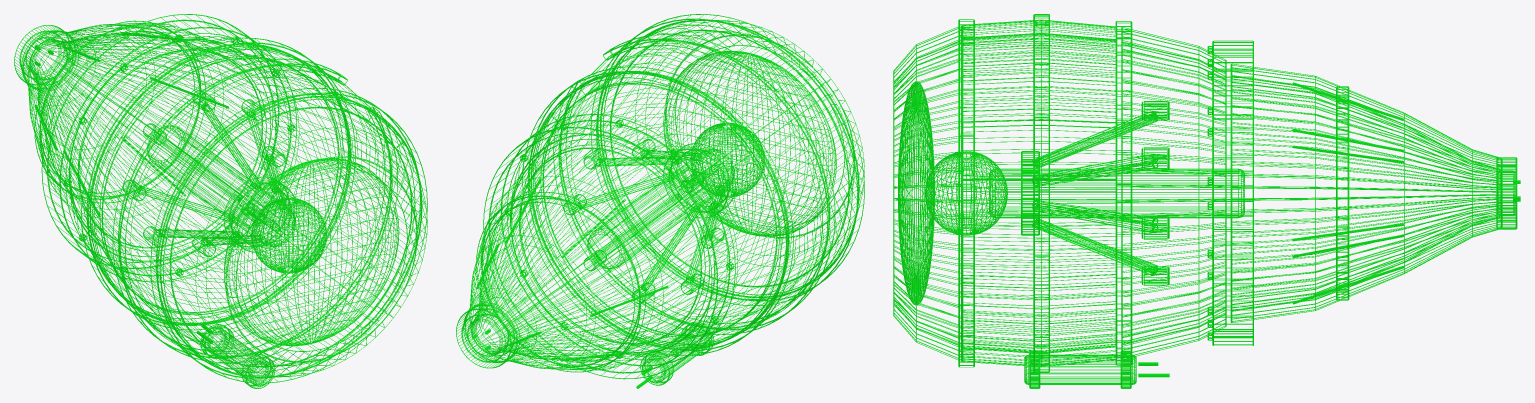
Rendered from shield-x40-wireframe.glb.
3 views of the same model, side by side, from view 1: azimuth 30°, elevation 25°; view 2: azimuth 150°, elevation 25°; view 3: azimuth 270°, elevation 25° (orthographic). The views are drawn at different scales.
Visible parts, largest first — view 1: chassis technical wire, generator-and-broadcast-system technical wire, power-input technical wire, power-monitoring technical wire; view 2: chassis technical wire, generator-and-broadcast-system technical wire, power-input technical wire, power-monitoring technical wire; view 3: chassis technical wire, generator-and-broadcast-system technical wire, power-monitoring technical wire, power-input technical wire.
Boxes of the visible parts, left/top/right/bottom form: chassis technical wire: left=21, top=14, right=427, bottom=383; generator-and-broadcast-system technical wire: left=122, top=90, right=326, bottom=273; power-input technical wire: left=14, top=25, right=78, bottom=91; power-monitoring technical wire: left=197, top=324, right=275, bottom=388; chassis technical wire: left=463, top=14, right=864, bottom=379; generator-and-broadcast-system technical wire: left=563, top=122, right=764, bottom=303; power-input technical wire: left=456, top=302, right=520, bottom=368; power-monitoring technical wire: left=636, top=321, right=714, bottom=388; chassis technical wire: left=893, top=14, right=1502, bottom=372; generator-and-broadcast-system technical wire: left=925, top=101, right=1244, bottom=285; power-monitoring technical wire: left=1024, top=350, right=1169, bottom=388; power-input technical wire: left=1496, top=157, right=1520, bottom=229.
Bounding box in the file's own units: 2.05 × 2.24 × 3.58.
